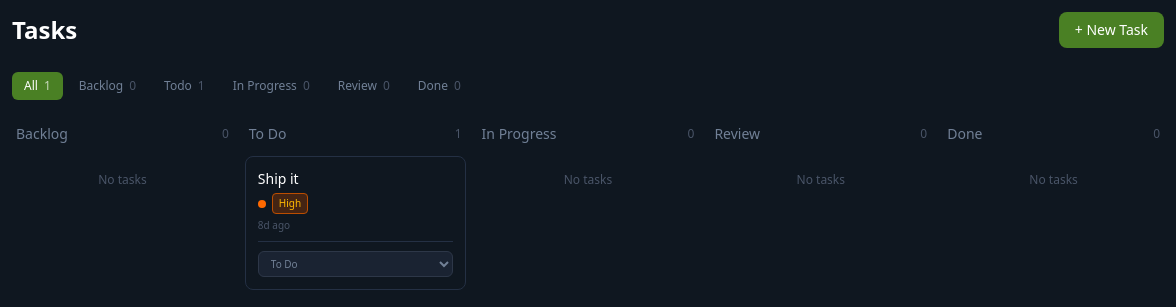
Test case: TaskBoard — the path that reverts silently › POSITIVE CONTROL: a refused transition says why, not just snaps back
Select "In Progress" in the dropdown with test id "quick-transition" at (355, 264), box [258, 251, 453, 277]
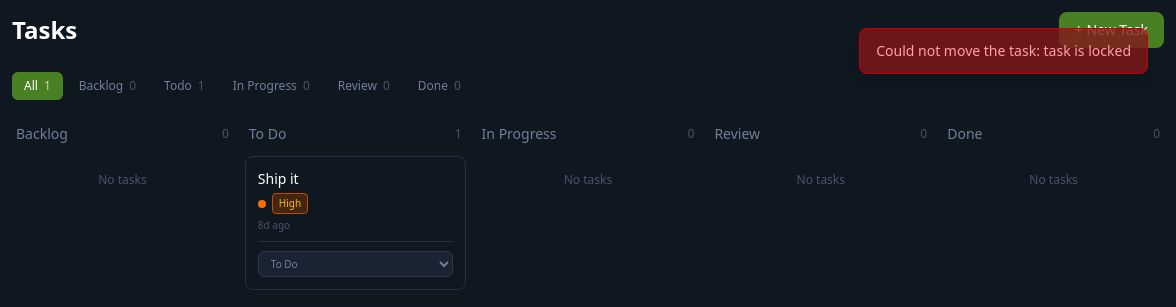
Result: the message with test id "toast-error" shows "Could not move the task" at [876, 41, 1131, 60]
Result: the message with test id "toast-error" shows "task is locked" at [876, 41, 1131, 60]
